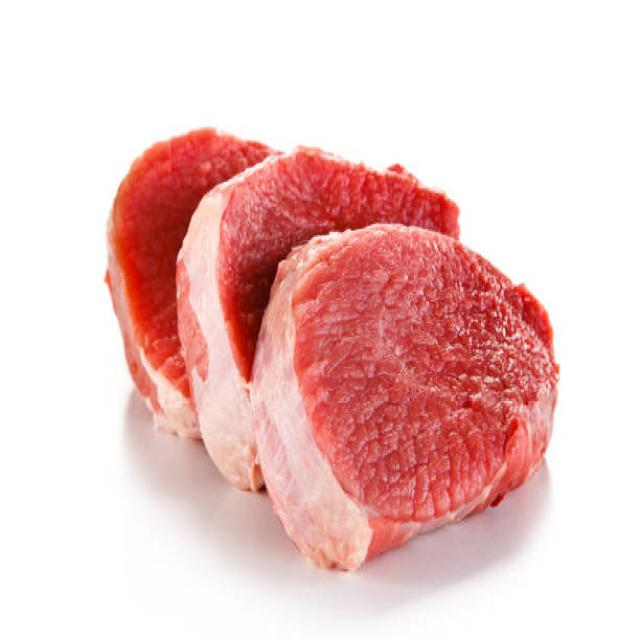Pork: (176, 141, 464, 494), (250, 236, 560, 557)
